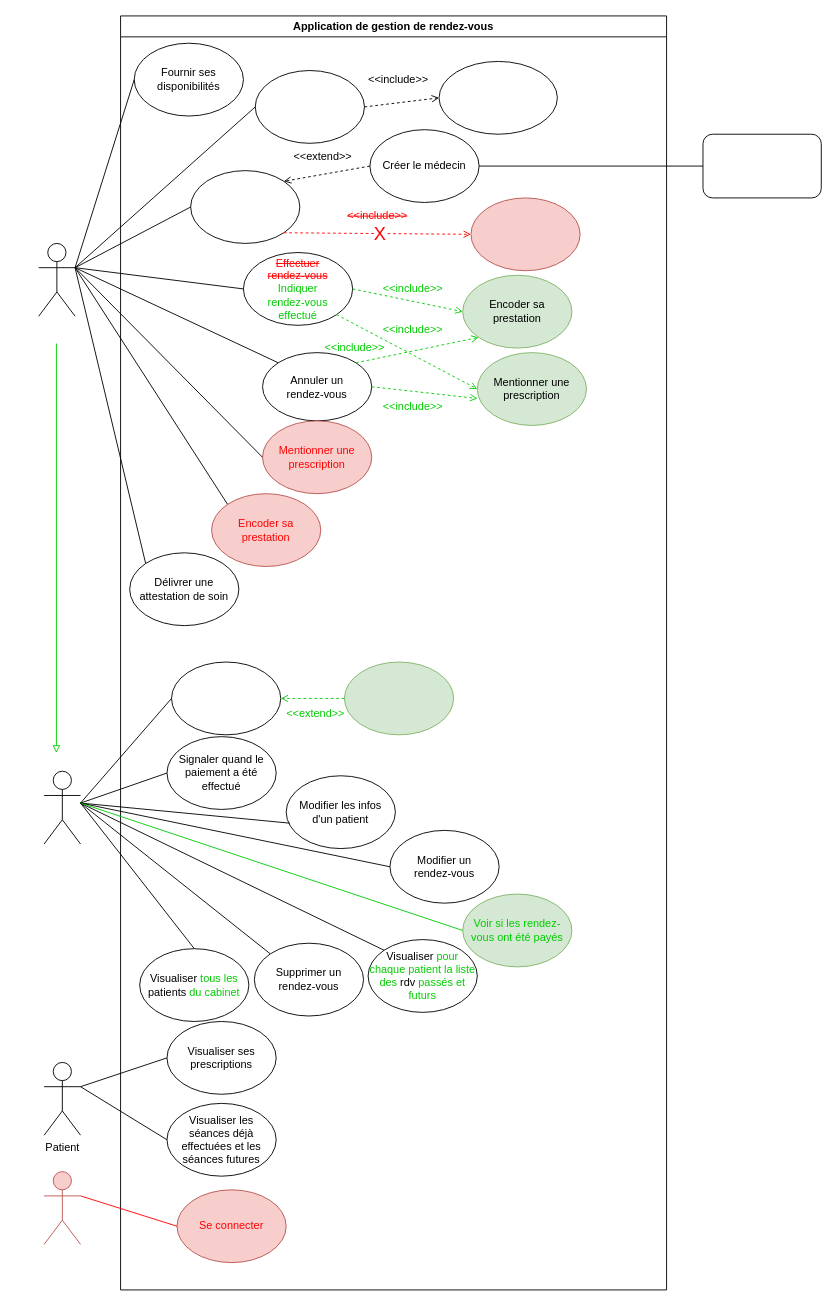
The diagram is 837 pixels wide and 1306 high, and some of its shapes have lost their labels. Here are the shapes that lost their labels. From the top down, the centre of each, then its label:
the point at 309,106: Vérifier les informations d'un patient
the point at 497,97: Envoyer un email au patient avec un code d'accès
the point at 761,165: <<actor>> Annuaire des médecins de Belgique
the point at 245,206: Enregistrer la prescription fournie par le patient
the point at 525,234: Renseigner le médecin
the point at 56,279: Kinésithérapeute
the point at 226,698: Enregistrer un rendez-vous
the point at 399,698: Créer un nouveau patient
the point at 62,807: Secrétaire
the point at 62,1207: Internaute
